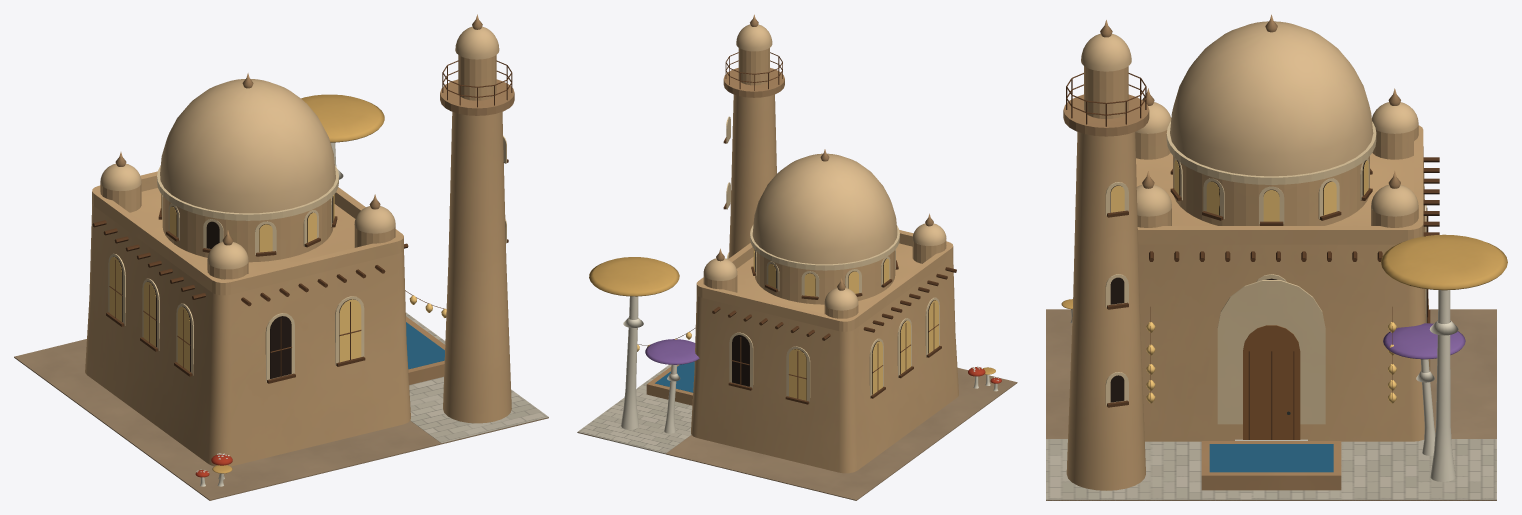
File: hl_chram.glb
3 renders of one model, left to right at view 1: azimuth 30°, elevation 25°; view 2: azimuth 150°, elevation 25°; view 3: azimuth 270°, elevation 25°, orthographic. The views are drawn at different scales.
Visible parts, largest first — view 1: dum, noc; view 2: dum, noc; view 3: dum, noc.
Boxes of the visible parts, x1,y1,x2,y2 form: dum: (14, 14, 548, 500); noc: (109, 194, 446, 371); dum: (577, 14, 1017, 500); noc: (637, 120, 938, 400); dum: (1046, 14, 1507, 500); noc: (1111, 160, 1396, 403).
Bounding box in the file's own units: 14.23 × 15.82 × 14.5.
Materials: 1 (1 with a texture image).
